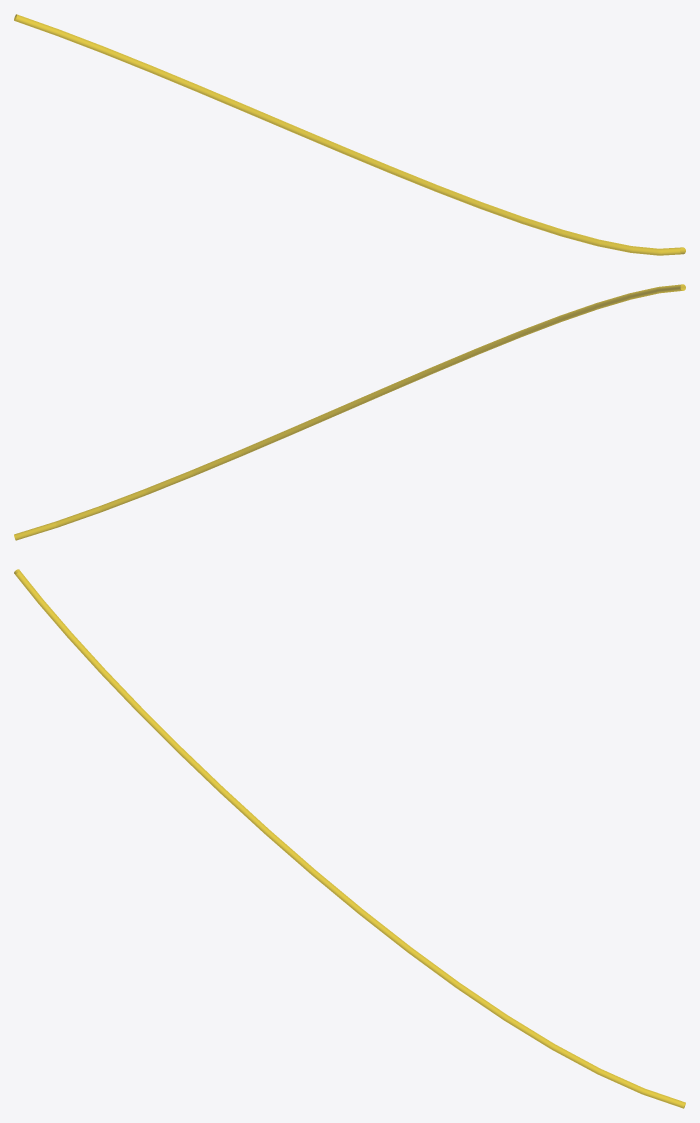
The model's file is Event_419990632_track_56.fbx.
3 renders of one model, top to bottom at view 1: azimuth 30°, elevation 25°; view 2: azimuth 150°, elevation 25°; view 3: azimuth 330°, elevation 25°, orthographic. The views are drawn at different scales.
Parts seen in each view (by area): view 1: Model; view 2: Model; view 3: Model.
Part boxes in pixels (x1,y1,x2,y2): Model: (14,14,685,255); Model: (14,284,685,540); Model: (14,569,685,1108).
Size of the model in its own units: 4.57 by 2.67 by 0.6449.
